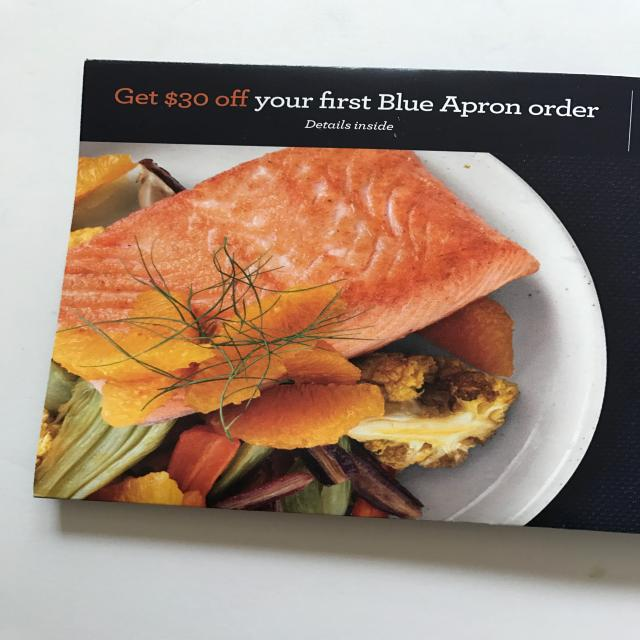paper: (36, 61, 640, 538)
